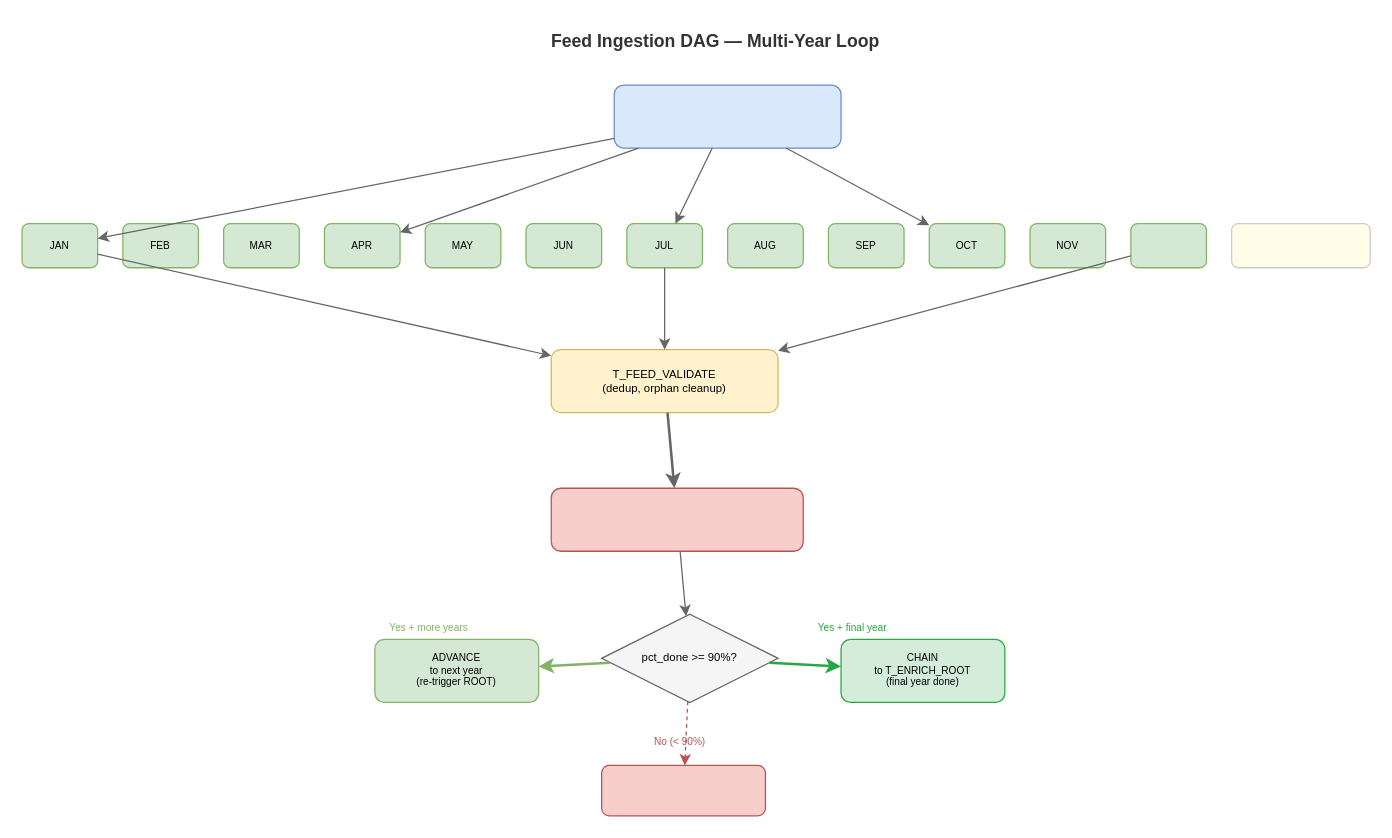
Some shapes in this 1392 by 838 pixel diagram are drawn without their labels. The shapes that lost their labels are listed below. From the top down, each one's centre as x and y in pixels, then its label:
(727,116): T_FEED_INGEST_ROOT (clears partial logs)
(1168,245): DEC
(1300,245): All 12 months run in PARALLEL
(676,519): T_FEED_INGEST_FINALIZER (year loop logic)
(682,790): RETRY (re-trigger ROOT)
